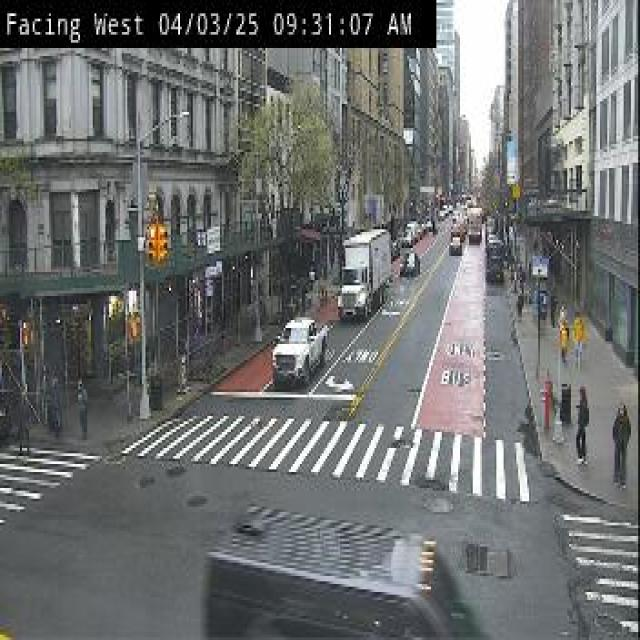open parking: (470, 239, 550, 472)
